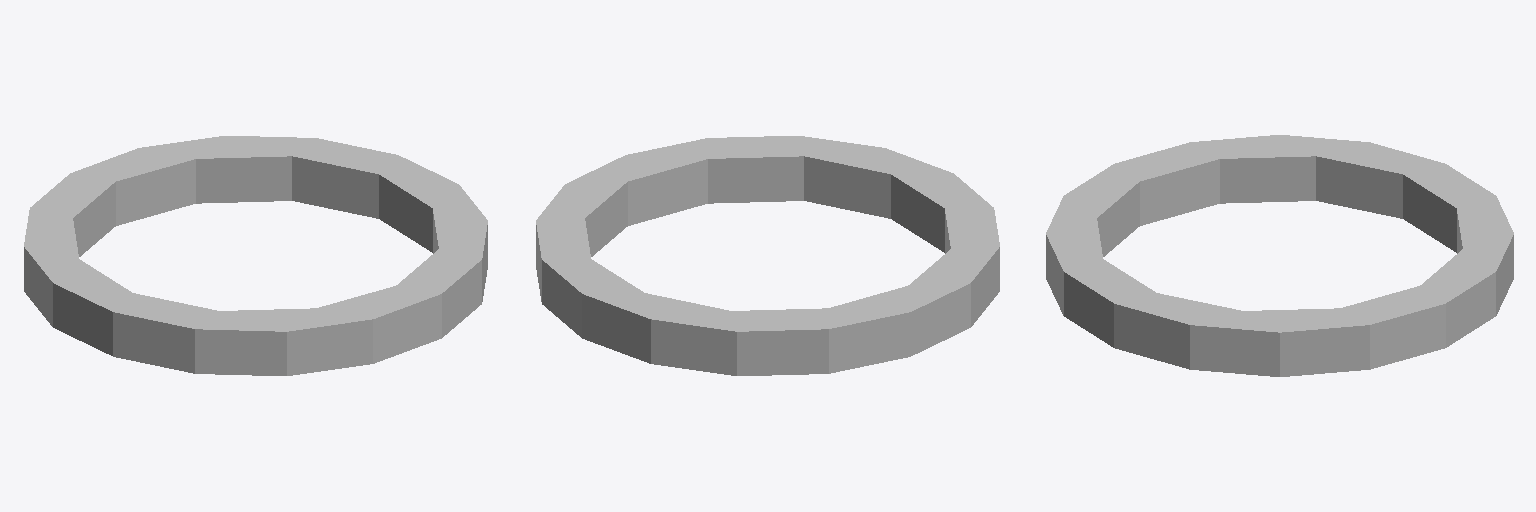
File: HighlightCircleMesh.obj
3 renders of one model, left to right at view 1: azimuth 30°, elevation 25°; view 2: azimuth 150°, elevation 25°; view 3: azimuth 270°, elevation 25°, orthographic.
Parts seen in each view (by area): view 1: cylinder12; view 2: cylinder12; view 3: cylinder12.
Part boxes in pixels (x1,y1,x2,y2): cylinder12: (24, 136, 487, 375); cylinder12: (536, 136, 999, 375); cylinder12: (1046, 135, 1513, 376).
Size of the model in its own units: 254 by 26.67 by 254.